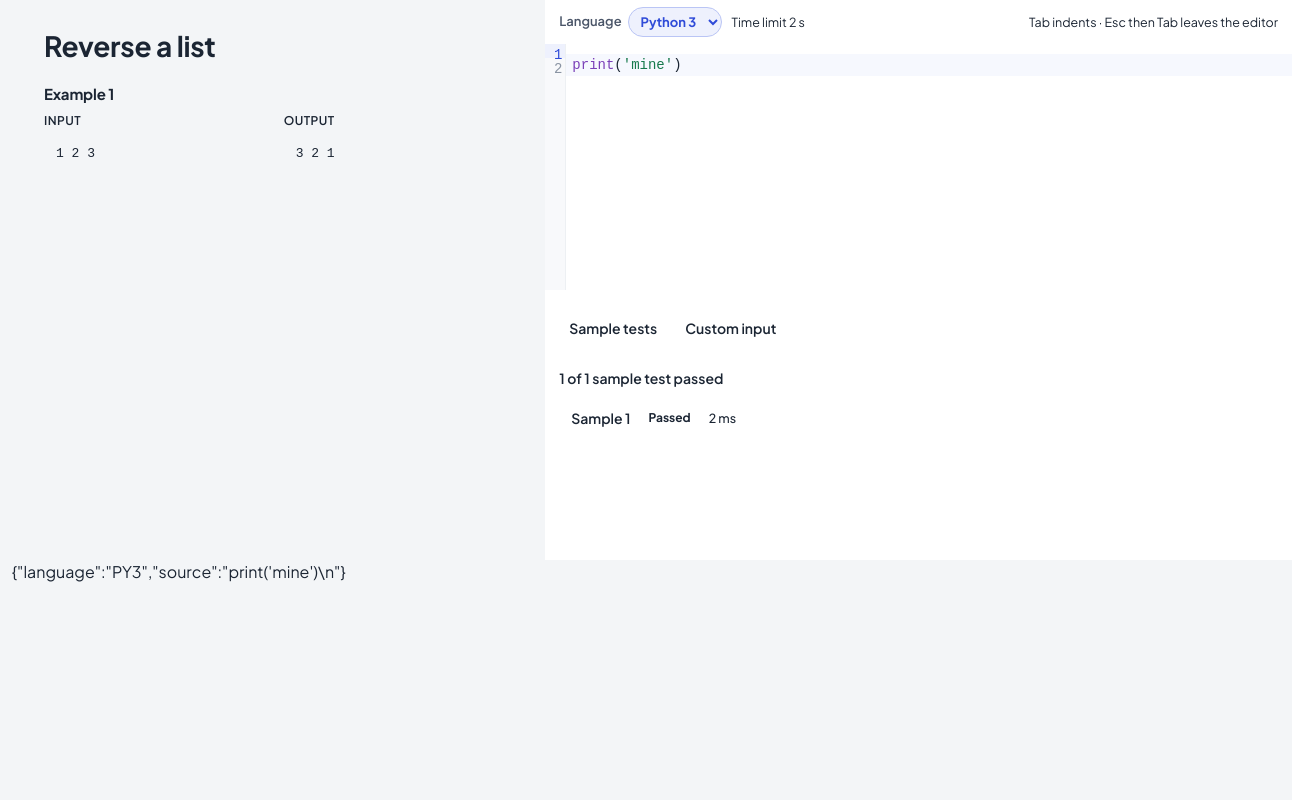
coding question with several languages › switching language shows that language's template, keeps each draft and saves {language, source}
Select "C++17" in the dropdown with test id "code-language-picker": (675, 22) [628,7,722,37]
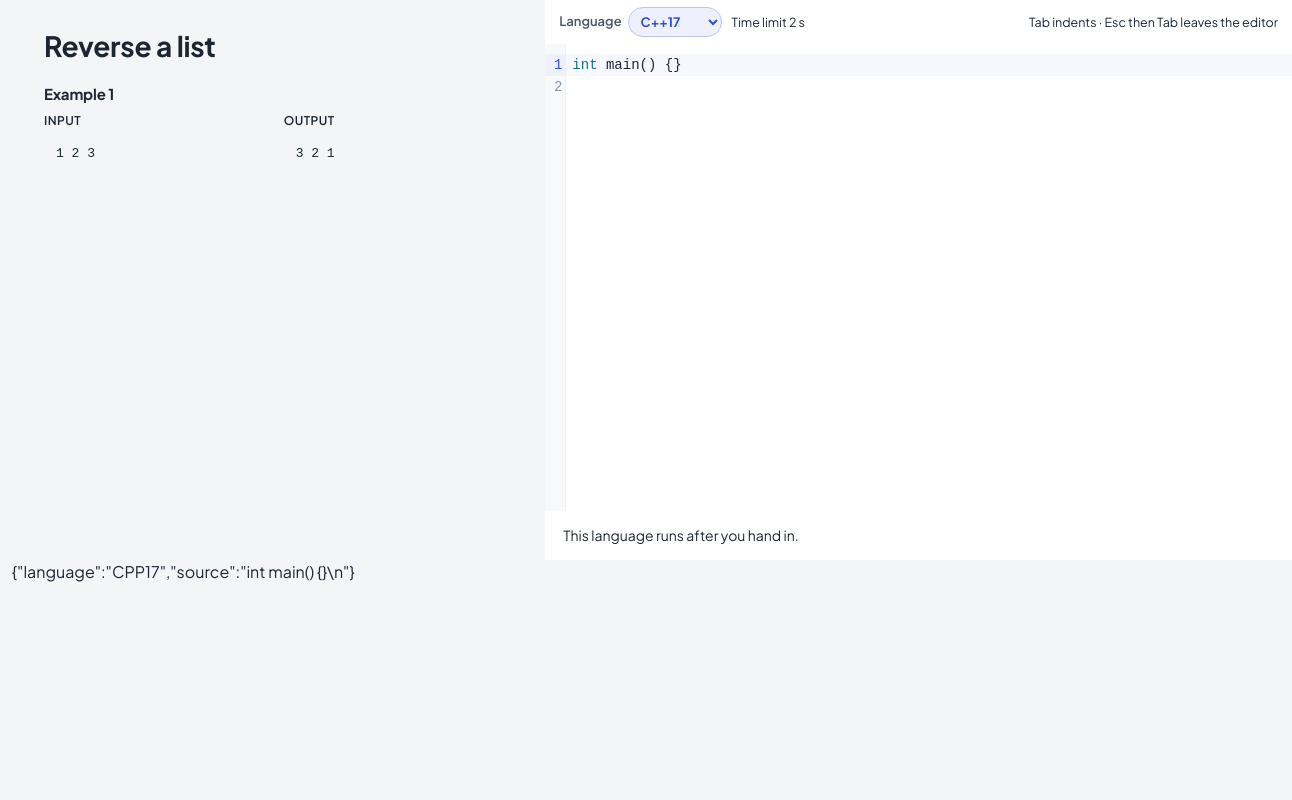
expect the button "Run samples" is not shown: met
expect the text box labelled "int main() {}" is shown: met, box [566,54,1291,76]
expect the text with test id "code-no-run" reads "This language runs after you hand in.": met, box [563,526,799,544]
Select "Python 3" in the dropdown with test id "code-language-picker": (675, 22) [628,7,722,37]
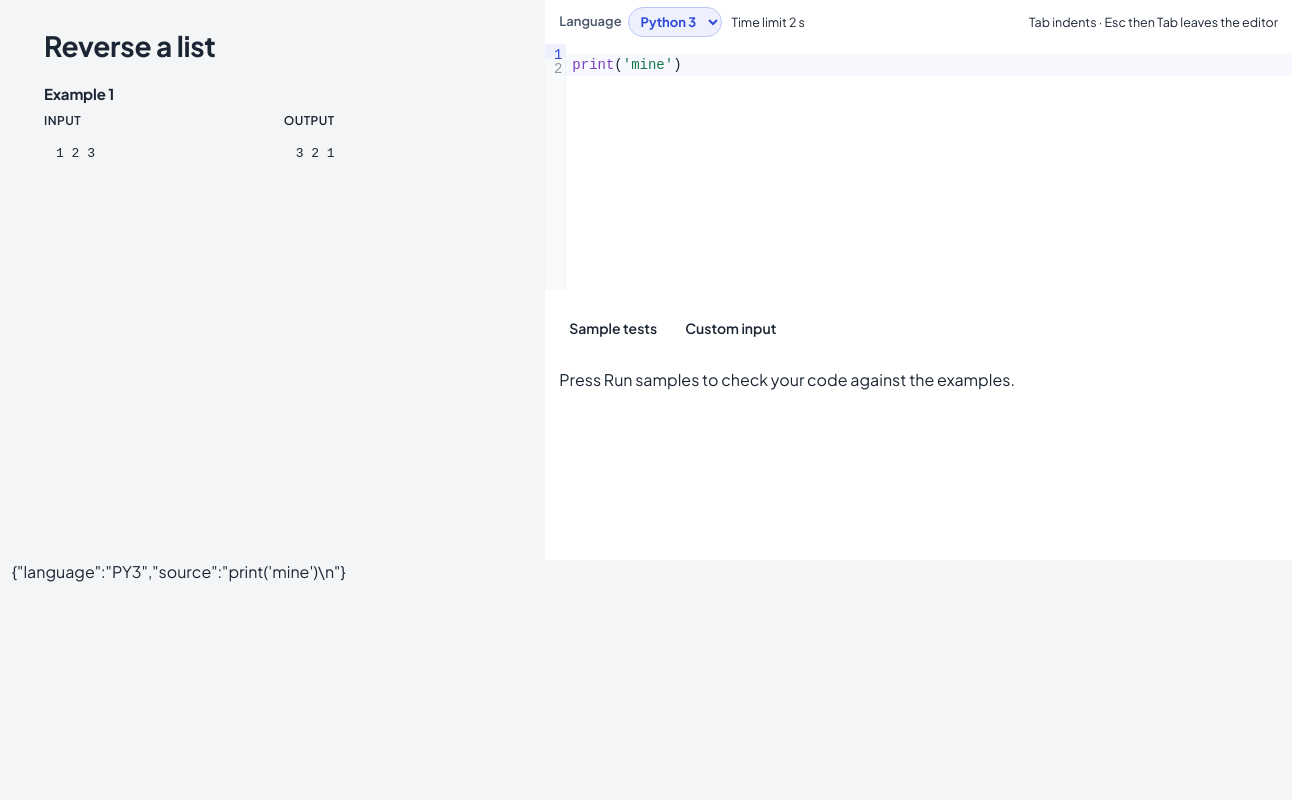
expect the text box labelled "print('mine')" is shown: met, box [566,54,1291,76]
no template and no runner: empty editor, no answer yet
Select "Rust" in the dropdown with test id "code-language-picker": (675, 22) [628,7,722,37]
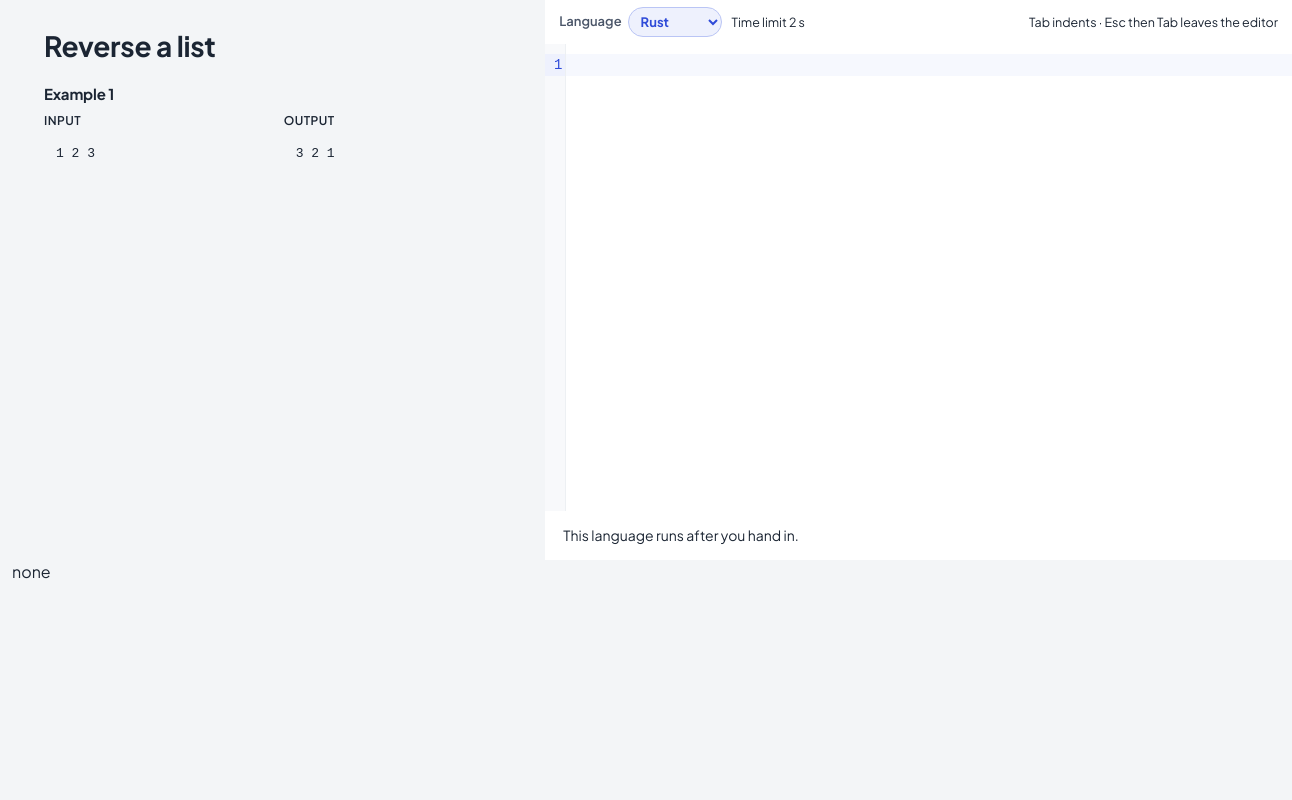
expect the text with test id "value" reads "none": met, box [12,561,51,582]
expect the text with test id "code-no-run" reads "This language runs after you hand in.": met, box [563,526,799,544]
